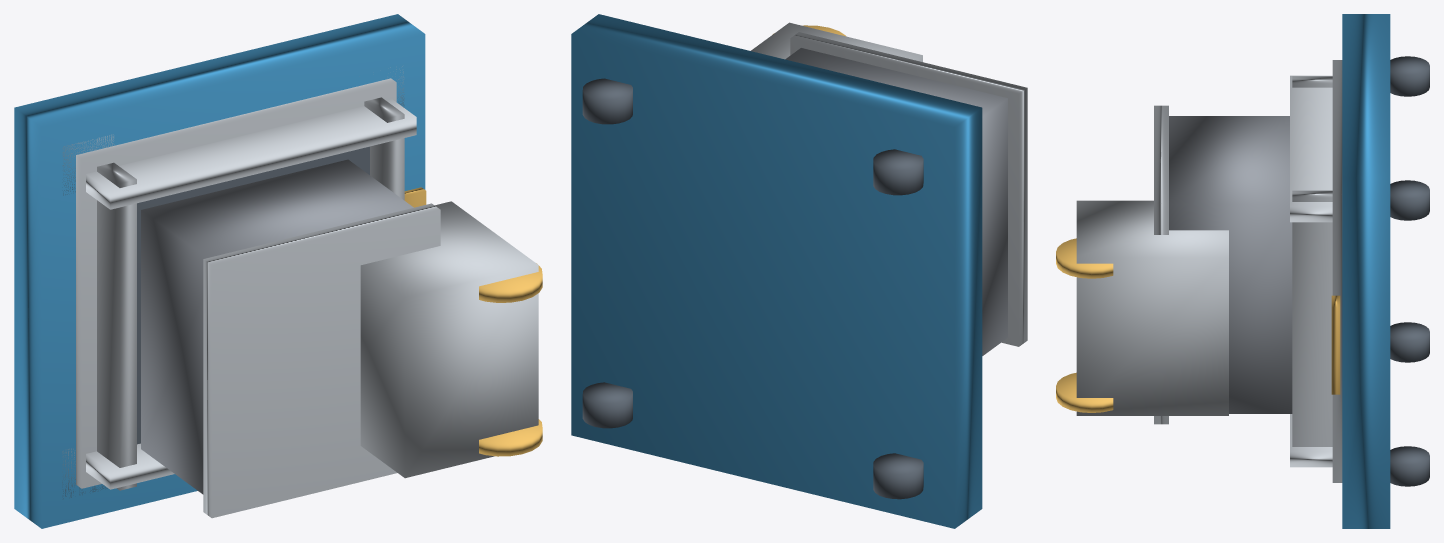
The picture shows the model from 3 angles, left to right: view 1: azimuth 30°, elevation 25°; view 2: azimuth 150°, elevation 25°; view 3: azimuth 270°, elevation 25°; orthographic projection. The views are drawn at different scales.
Parts seen in each view (by area): view 1: bumper_outer, hopper_top, shooter_tower, hopper_body, bellypan, chassis_rail_1, chassis_crossbar, electronics, chassis_crossbar_1, chassis_rail, flywheel, flywheel_1; view 2: bumper_outer, hopper_body, hopper_top, swerve_tire_2, swerve_tire_1, swerve_tire, swerve_tire_3, shooter_tower; view 3: shooter_tower, hopper_body, bumper_outer, chassis_crossbar_1, chassis_rail_1, bellypan, hopper_top, swerve_tire, swerve_tire_1, swerve_tire_2, swerve_tire_3, flywheel_1 (+4 smaller).
Part boxes in pixels (left/top/right/bottom): bumper_outer: left=14, top=14, right=425, bottom=528; hopper_top: left=203, top=203, right=440, bottom=518; shooter_tower: left=360, top=201, right=538, bottom=478; hopper_body: left=141, top=159, right=413, bottom=494; bellypan: left=76, top=78, right=396, bottom=488; chassis_rail_1: left=86, top=99, right=416, bottom=209; chassis_crossbar: left=97, top=162, right=136, bottom=490; electronics: left=137, top=146, right=369, bottom=444; chassis_crossbar_1: left=364, top=97, right=404, bottom=200; chassis_rail: left=86, top=443, right=174, bottom=489; flywheel: left=479, top=419, right=542, bottom=456; flywheel_1: left=479, top=263, right=542, bottom=302; bumper_outer: left=571, top=14, right=982, bottom=528; hopper_body: left=785, top=48, right=1007, bottom=355; hopper_top: left=790, top=32, right=1027, bottom=346; swerve_tire_2: left=582, top=382, right=632, bottom=428; swerve_tire_1: left=873, top=149, right=923, bottom=195; swerve_tire: left=873, top=453, right=923, bottom=499; swerve_tire_3: left=582, top=78, right=632, bottom=124; shooter_tower: left=751, top=22, right=922, bottom=61; shooter_tower: left=1076, top=200, right=1228, bottom=415; hopper_body: left=1169, top=116, right=1292, bottom=413; bumper_outer: left=1342, top=14, right=1390, bottom=528; chassis_crossbar_1: left=1292, top=190, right=1332, bottom=446; chassis_rail_1: left=1290, top=75, right=1332, bottom=222; bellypan: left=1332, top=60, right=1342, bottom=482; hopper_top: left=1154, top=105, right=1168, bottom=424; swerve_tire: left=1390, top=322, right=1429, bottom=362; swerve_tire_1: left=1390, top=56, right=1429, bottom=96; swerve_tire_2: left=1390, top=446, right=1429, bottom=486; swerve_tire_3: left=1390, top=180, right=1429, bottom=220; flywheel_1: left=1056, top=238, right=1113, bottom=278.
Bounding box in the file's own units: 0.889 × 0.889 × 0.8578.
